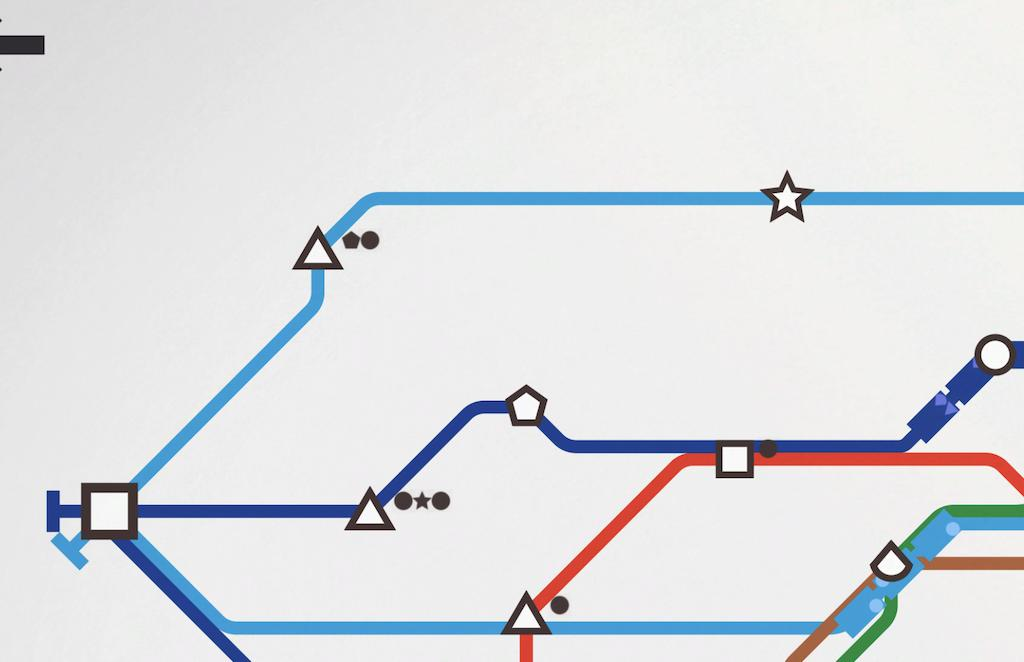connected_station: (66, 473, 170, 562), (300, 468, 409, 547), (283, 206, 347, 286), (747, 159, 828, 221), (494, 367, 557, 440), (857, 536, 922, 588), (969, 327, 1024, 383), (497, 588, 552, 643), (711, 431, 762, 486)
line_endpoint: (42, 531, 104, 577), (29, 482, 74, 535)
train: (837, 515, 949, 621), (899, 338, 1006, 439)
